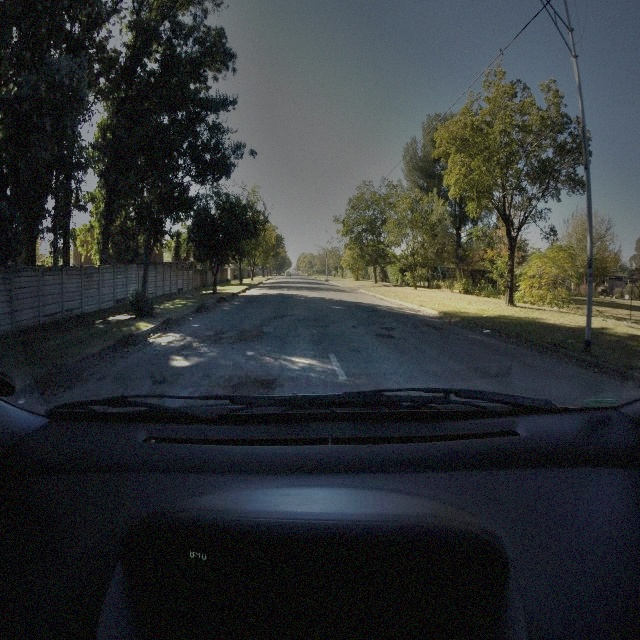pothole: (200, 324, 268, 349), (229, 374, 276, 392), (376, 330, 396, 342), (381, 324, 396, 332)
